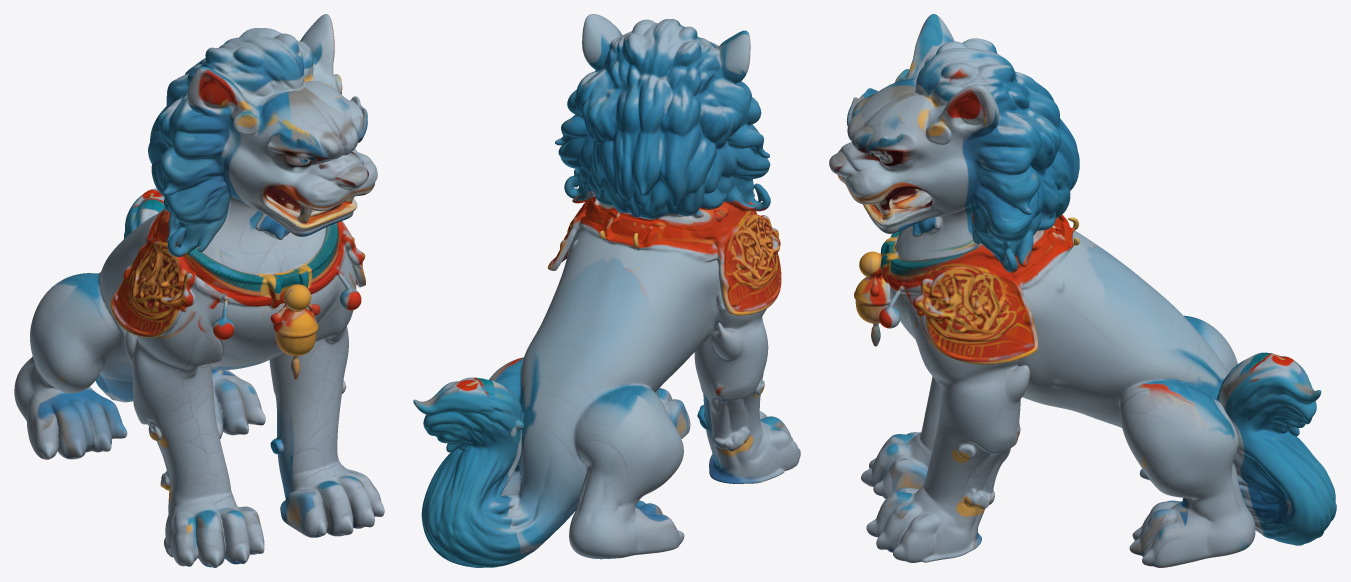
The model's file is lioness_A_h25.glb.
3 renders of one model, left to right at view 1: azimuth 30°, elevation 25°; view 2: azimuth 150°, elevation 25°; view 3: azimuth 270°, elevation 25°, orthographic. The views are drawn at different scales.
Visible parts, largest first — view 1: tripo_node_6bc4b2bc-d2dc-423e-b162-dadf59075919; view 2: tripo_node_6bc4b2bc-d2dc-423e-b162-dadf59075919; view 3: tripo_node_6bc4b2bc-d2dc-423e-b162-dadf59075919.
Boxes of the visible parts, x1,y1,x2,y2 form: tripo_node_6bc4b2bc-d2dc-423e-b162-dadf59075919: (14,14,384,567); tripo_node_6bc4b2bc-d2dc-423e-b162-dadf59075919: (413,14,800,567); tripo_node_6bc4b2bc-d2dc-423e-b162-dadf59075919: (829,14,1336,567).
Size of the model in its own units: 0.4967 by 1 by 0.9718.
Materials: 1 (1 with a texture image).
